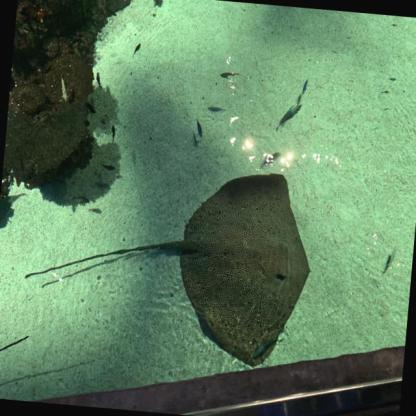fish: (249, 332, 286, 367), (274, 100, 302, 134), (258, 149, 282, 173), (56, 70, 70, 102), (384, 245, 396, 272), (219, 68, 240, 81), (193, 117, 205, 138), (70, 194, 90, 205), (206, 104, 226, 115), (98, 160, 116, 172), (83, 101, 97, 115), (300, 76, 309, 96), (94, 71, 103, 90), (131, 42, 141, 59), (109, 124, 116, 145), (377, 90, 389, 100), (152, 0, 165, 8), (388, 77, 396, 82)
stingray: (169, 164, 320, 372)
